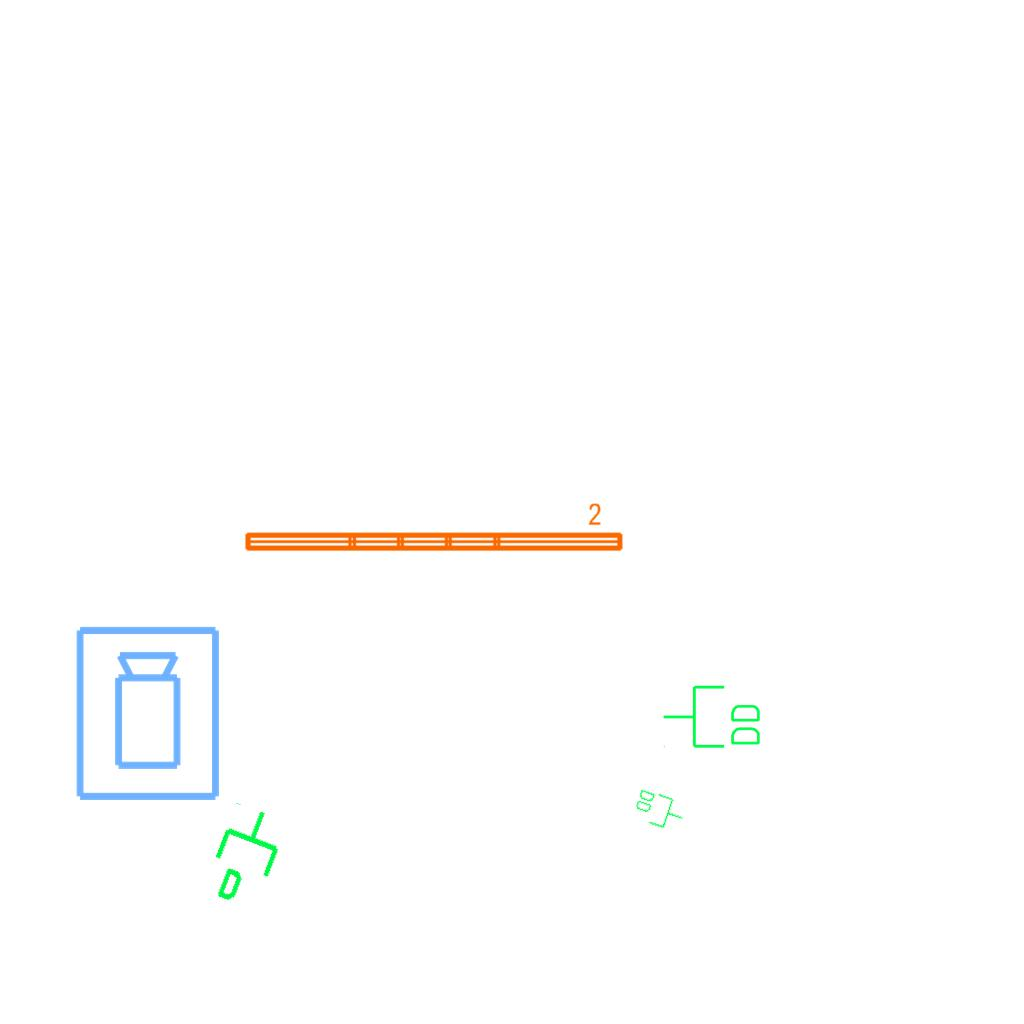Ambulanz_Pendelleuchte_LED: (240, 501, 627, 557)
Datenanschluss_einfach: (197, 797, 298, 917)
Datenanschluss_zweifach: (661, 683, 764, 752), (629, 785, 690, 835)
KFO_Kamera_mit_Festobjektiv: (72, 623, 226, 805)
